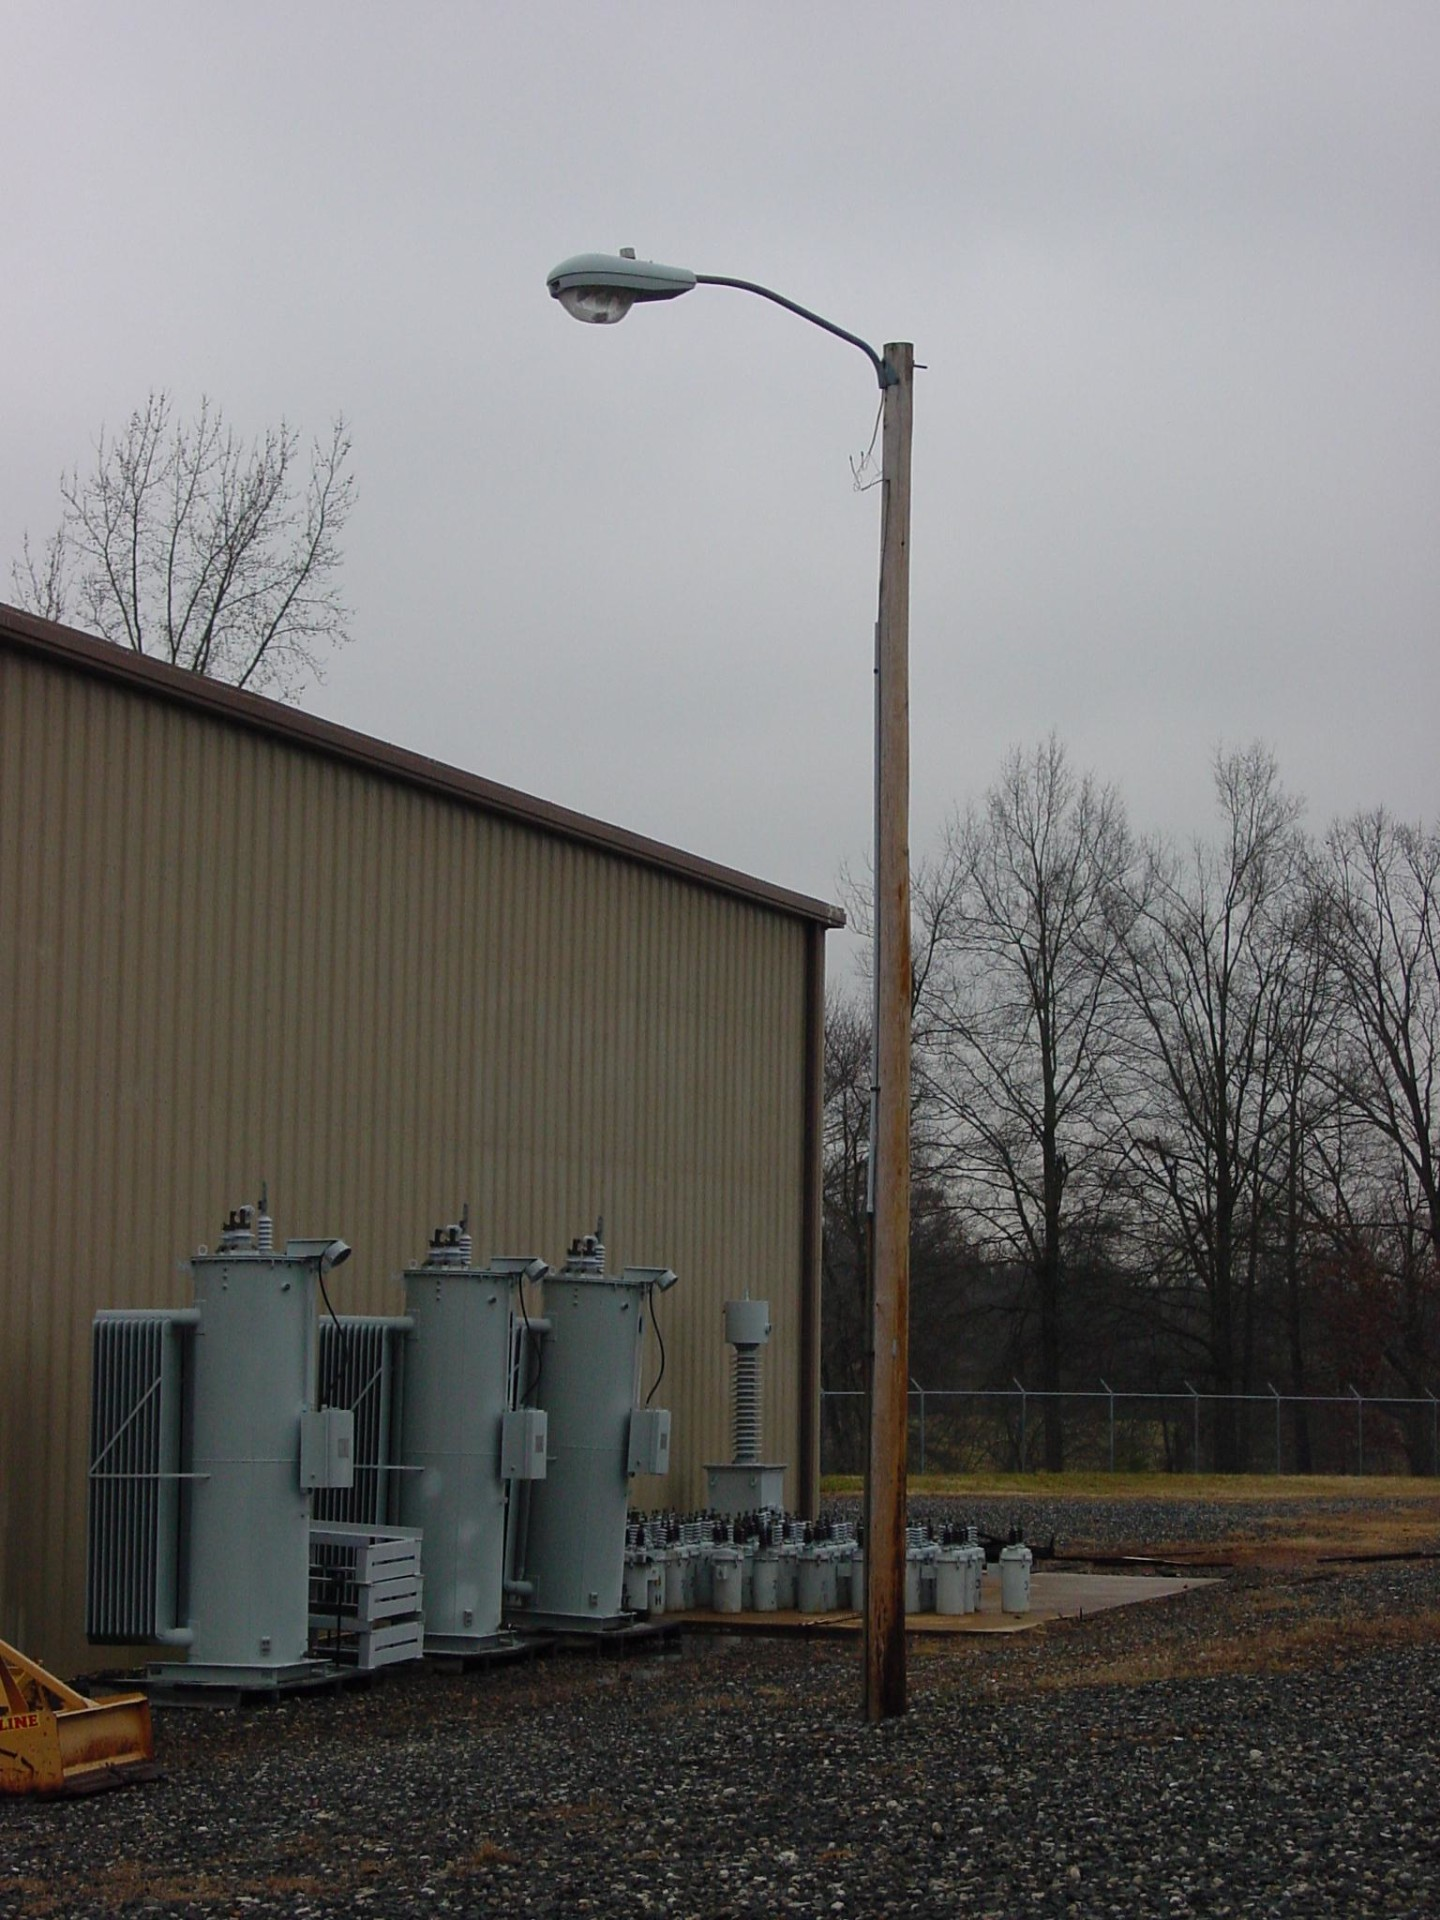Muro: (5, 739, 833, 1668)
Poste: (839, 311, 967, 1723)
